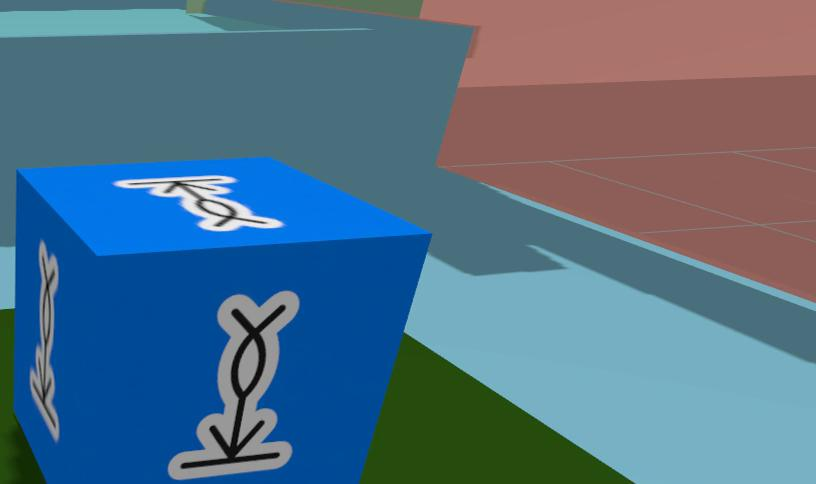KFS_REAL: (11, 157, 430, 484), (168, 291, 297, 479), (114, 177, 282, 230)
